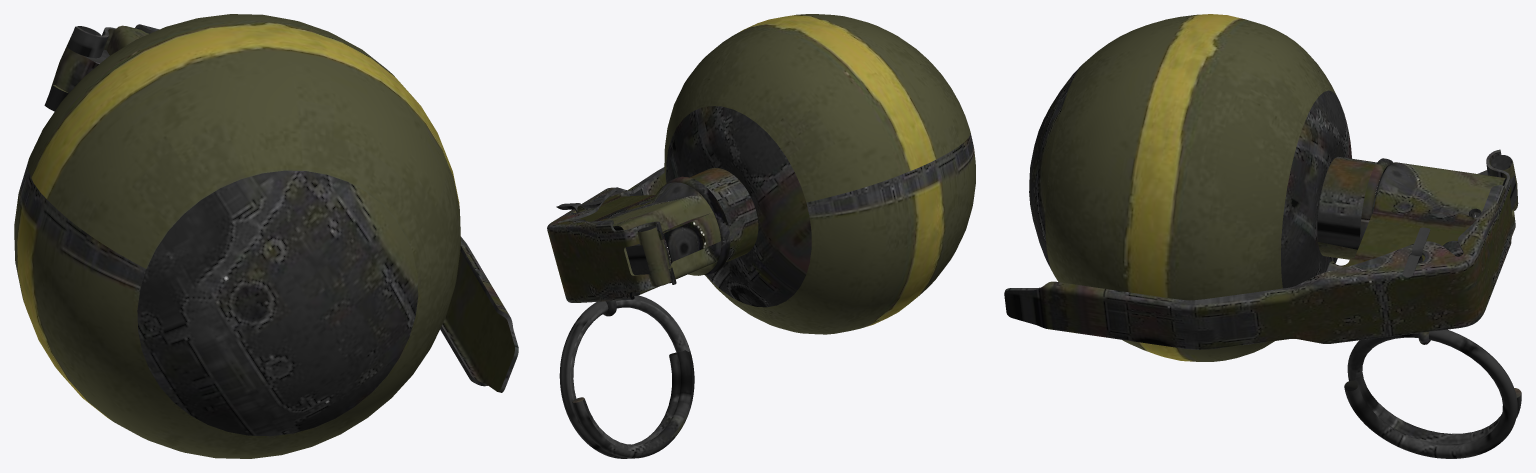
The model's file is w_hegrenade.glb.
3 renders of one model, left to right at view 1: azimuth 30°, elevation 25°; view 2: azimuth 150°, elevation 25°; view 3: azimuth 270°, elevation 25°, orthographic. The views are drawn at different scales.
Visible parts, largest first — view 1: w_hegrenade; view 2: w_hegrenade; view 3: w_hegrenade.
Boxes of the visible parts, x1,y1,x2,y2 form: w_hegrenade: [14, 14, 518, 458]; w_hegrenade: [547, 14, 975, 458]; w_hegrenade: [1004, 14, 1521, 458].
Bounding box in the file's own units: 0.112 × 0.129 × 0.1539.
1 material, 1 textured.
